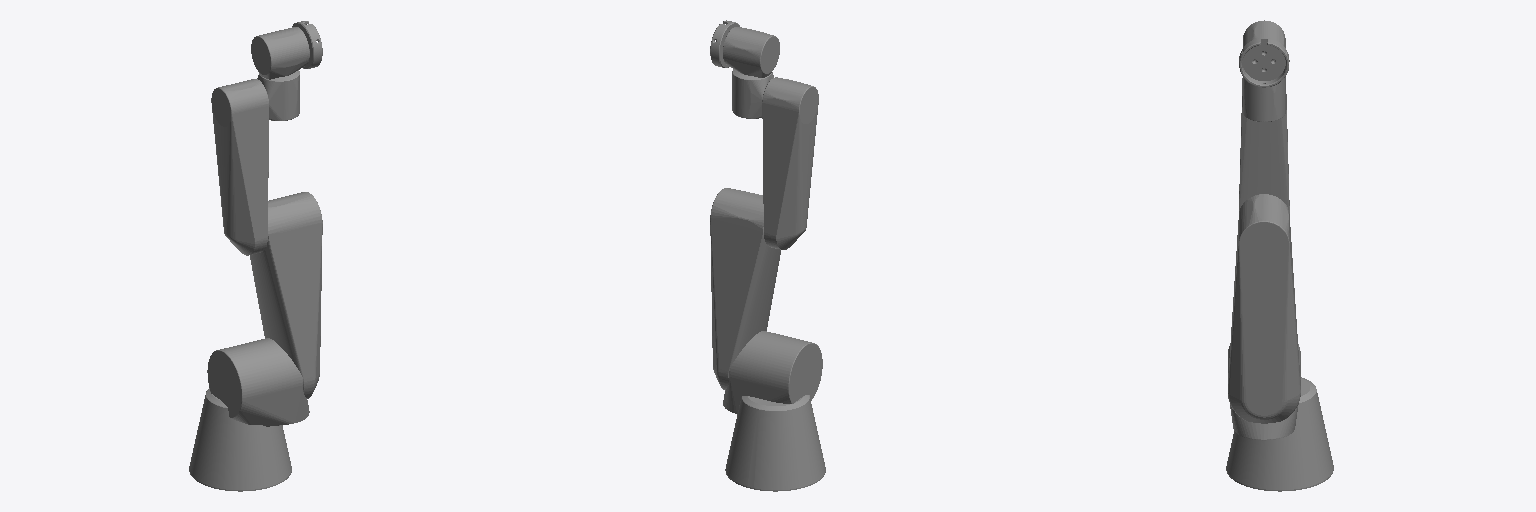
robot.urdf — wer24_robotarm:
<?xml version="1.0" ?>
<!-- =================================================================================== -->
<!-- |    This document was autogenerated by xacro from diy_robotarm_main.urdf.xacro   | -->
<!-- |    EDITING THIS FILE BY HAND IS NOT RECOMMENDED                                 | -->
<!-- =================================================================================== -->
<!--this is the main urdf.xacro file which builds actually the robot model by calling the other macros-->
<robot name="wer24_robotarm">
  <material name="black">
    <color rgba="0.0 0.0 0.0 1.0"/>
  </material>
  <material name="blue">
    <color rgba="0.0 0.0 0.8 1.0"/>
  </material>
  <material name="green">
    <color rgba="0.0 0.8 0.0 1.0"/>
  </material>
  <material name="yellow">
    <color rgba="1.0 1.0 0.0 1.0"/>
  </material>
  <material name="grey">
    <color rgba="0.6 0.6 0.6 1.0"/>
  </material>
  <material name="orange">
    <color rgba="1.0 0.4235294117647059 0.0392156862745098 1.0"/>
  </material>
  <material name="brown">
    <color rgba="0.8705882352941177 0.8117647058823529 0.7647058823529411 1.0"/>
  </material>
  <material name="red">
    <color rgba="0.8 0.0 0.0 1.0"/>
  </material>
  <material name="white">
    <color rgba="1.0 1.0 1.0 1.0"/>
  </material>
  <!--#######################################################################################################################################-->
  <!--set some parameters with default values used by the macros (kinematics description, simulation and control)-->
  <!--#######################################################################################################################################-->
  <!--still to modify delete not necessary params *** only use fake hardware should be available???-->
  <!--#######################################################################################################################################-->
  <!-- call the main macro by passing above instanced parameters to build the arm -->
  <!--#######################################################################################################################################-->
  <!-- create link fixed to the "world" -->
  <link name="world"/>
  <!--#######################################################################################################################################-->
  <!--include ros2 control and create an instance if param generate_ros2_control_tag == true and pass necessary params-->
  <!--#######################################################################################################################################-->
  <!--still to modify delete not necessary params-->
  <!--#######################################################################################################################################-->
  <!--build ros2_control configuration-->
  <!--#######################################################################################################################################-->
  <ros2_control name="wer24_robotarm" type="system">
    <!--load hardware or simulation plugins-->
    <hardware>
      <plugin>ur_robot_driver/URPositionHardwareInterface</plugin>
      <!--call our custom plugin for interfacing with the esp-->
      <param name="robot_ip">0.0.0.0</param>
      <param name="script_filename"></param>
      <param name="output_recipe_filename"></param>
      <param name="input_recipe_filename"></param>
      <param name="headless_mode">False</param>
      <param name="reverse_port">50001</param>
      <param name="script_sender_port">50002</param>
      <param name="reverse_ip">0.0.0.0</param>
      <param name="script_command_port">50004</param>
      <param name="trajectory_port">50003</param>
      <param name="tf_prefix"></param>
      <param name="non_blocking_read">True</param>
      <param name="keep_alive_count">2</param>
    </hardware>
    <!--define interfaces for each joint-->
    <joint name="shoulder">
      <!--define command interface PcToRobot-->
      <command_interface name="position">
        <param name="min">{-pi}</param>
        <param name="max">{pi}</param>
      </command_interface>
      <!--define state interface RobotToPC (NOTE: our Hardware is an open-loop control system!)-->
      <state_interface name="position">
        <!-- initial position for the FakeSystem and simulation -->
        <param name="initial_value">0</param>
      </state_interface>
    </joint>
    <joint name="upper_arm">
      <command_interface name="position">
        <param name="min">{-*pi}</param>
        <param name="max">{pi}</param>
      </command_interface>
      <state_interface name="position">
        <!-- initial position for the FakeSystem and simulation -->
        <param name="initial_value">0</param>
      </state_interface>
    </joint>
    <joint name="forearm">
      <command_interface name="position">
        <param name="min">{-pi}</param>
        <param name="max">{pi}</param>
      </command_interface>
      <state_interface name="position">
        <!-- initial position for the FakeSystem and simulation -->
        <param name="initial_value">0</param>
      </state_interface>
    </joint>
    <joint name="wrist_1">
      <command_interface name="position">
        <param name="min">{-pi}</param>
        <param name="max">{pi}</param>
      </command_interface>
      <state_interface name="position">
        <!-- initial position for the FakeSystem and simulation -->
        <param name="initial_value">0</param>
      </state_interface>
    </joint>
    <joint name="wrist_2">
      <command_interface name="position">
        <param name="min">{-pi}</param>
        <param name="max">{pi}</param>
      </command_interface>
      <state_interface name="position">
        <!-- initial position for the FakeSystem and simulation -->
        <param name="initial_value">0</param>
      </state_interface>
    </joint>
    <joint name="wrist_3">
      <command_interface name="position">
        <param name="min">{-pi}</param>
        <param name="max">{pi}</param>
      </command_interface>
      <state_interface name="position">
        <!-- initial position for the FakeSystem and simulation -->
        <param name="initial_value">0</param>
      </state_interface>
    </joint>
    <sensor name="tcp_fts_sensor">
      <state_interface name="force.x"/>
      <state_interface name="force.y"/>
      <state_interface name="force.z"/>
      <state_interface name="torque.x"/>
      <state_interface name="torque.y"/>
      <state_interface name="torque.z"/>
    </sensor>
    <!-- NOTE The following are joints used only for testing with fake hardware and will change in the future -->
    <gpio name="speed_scaling">
      <state_interface name="speed_scaling_factor"/>
      <param name="initial_speed_scaling_factor">1</param>
      <command_interface name="target_speed_fraction_cmd"/>
      <command_interface name="target_speed_fraction_async_success"/>
    </gpio>
    <gpio name="payload">
      <command_interface name="mass"/>
      <command_interface name="cog.x"/>
      <command_interface name="cog.y"/>
      <command_interface name="cog.z"/>
      <command_interface name="payload_async_success"/>
    </gpio>
    <gpio name="resend_robot_program">
      <command_interface name="resend_robot_program_cmd"/>
      <command_interface name="resend_robot_program_async_success"/>
    </gpio>
    <gpio name="hand_back_control">
      <command_interface name="hand_back_control_cmd"/>
      <command_interface name="hand_back_control_async_success"/>
    </gpio>
    <gpio name="zero_ftsensor">
      <command_interface name="zero_ftsensor_cmd"/>
      <command_interface name="zero_ftsensor_async_success"/>
    </gpio>
    <gpio name="system_interface">
      <state_interface name="initialized"/>
    </gpio>
  </ros2_control>
  <!--#######################################################################################################################################-->
  <!--define the main kinematic chain with links and joints (using the config-files)-->
  <!--#######################################################################################################################################-->
  <!-- Achse fix Base to parent passed in the main_urdf.xacro-->
  <joint name="robotarm_to_parent" type="fixed">
    <parent link="world"/>
    <child link="base_link"/>
  </joint>
  <!-- Link0 = Basecone -->
  <link name="base_link">
    <origin xyz="0 0 0"/>
    <visual>
      <geometry>
        <mesh filename="package://diy_robotarm_wer24_description/meshes/visual/base.stl" scale="0.001 0.001 0.001"/>
      </geometry>
      <material name="grey"/>
    </visual>
    <!-- <collision>
        <origin xyz="0 0 0 rpy = 0 0 0"/>
        <geometry>
          <mesh filename="package://diy_robotarm_wer24_description/meshes/collision/base.stl" scale="0.001 0.001 0.001"/>
        </geometry>
        <material name="red"/>
      </collision> -->
  </link>
  <!-- Achse 1 (Base = World)-->
  <joint name="shoulder" type="revolute">
    <origin rpy="0 0 0" xyz="0 0 0.10693"/>
    <parent link="base_link"/>
    <child link="link_1"/>
    <axis xyz="0.0 0.0 1.0"/>
    <limit lower="-3.141592653589793" upper="3.141592653589793" velocity="1.0471975511965976"/>
  </joint>
  <!-- Link1 = Shoulder -->
  <link name="link_1">
    <visual>
      <origin rpy="0 0 0" xyz="0 0 0"/>
      <!--this transformations are defined local on this reference set-->
      <geometry>
        <mesh filename="package://diy_robotarm_wer24_description/meshes/visual/link_1.stl" scale="0.001 0.001 0.001"/>
      </geometry>
      <material name="grey"/>
    </visual>
    <!-- <collision>
        <origin xyz="0 0 0 rpy = 0 0 0"/>
        <geometry>
          <mesh filename="package://diy_robotarm_wer24_description/meshes/collision/link_1.stl" scale="0.001 0.001 0.001"/>
        </geometry>
        <material name="red"/>
      </collision> -->
  </link>
  <!-- Achse 2 -->
  <joint name="upper_arm" type="revolute">
    <origin rpy="1.57079 0 1.57079" xyz="0.01163 0 0.05732"/>
    <parent link="link_1"/>
    <child link="link_2"/>
    <axis xyz="0.0 0.0 1.0"/>
    <limit lower="-3.141592653589793" upper="3.141592653589793" velocity="1.0471975511965976"/>
  </joint>
  <!-- Link2 = Upper_Arm -->
  <link name="link_2">
    <visual>
      <origin rpy="0 0 0" xyz="0 0 0"/>
      <geometry>
        <mesh filename="package://diy_robotarm_wer24_description/meshes/visual/link_2.stl" scale="0.001 0.001 0.001"/>
      </geometry>
      <material name="grey"/>
    </visual>
    <!-- <collision>
        <origin xyz="0 0 0 rpy = 0 0 0"/>
        <geometry>
          <mesh filename="package://diy_robotarm_wer24_description/meshes/collision/link_2.stl" scale="0.001 0.001 0.001"/>
        </geometry>
        <material name="red"/>
      </collision> -->
  </link>
  <!-- Achse 3 -->
  <joint name="forearm" type="revolute">
    <origin rpy="0 0 1.57079" xyz="0 0.2032 -0.04911"/>
    <parent link="link_2"/>
    <child link="link_3"/>
    <axis xyz="0.0 0.0 1.0"/>
    <limit lower="-3.141592653589793" upper="3.141592653589793" velocity="1.0471975511965976"/>
  </joint>
  <!-- Link3 = Forearm -->
  <link name="link_3">
    <visual>
      <origin rpy="0 0 0" xyz="0 0 0"/>
      <geometry>
        <mesh filename="package://diy_robotarm_wer24_description/meshes/visual/link_3.stl" scale="0.001 0.001 0.001"/>
      </geometry>
      <material name="grey"/>
    </visual>
    <!-- <collision>
        <origin xyz="0 0 0 rpy = 0 0 0"/>
        <geometry>
          <mesh filename="package://diy_robotarm_wer24_description/meshes/collision/link_3.stl" scale="0.001 0.001 0.001"/>
        </geometry>
        <material name="red"/>
      </collision> -->
  </link>
  <!-- Achse 4 -->
  <joint name="wrist_1" type="revolute">
    <origin rpy="0 0 0" xyz="0.1778 0 0.0103"/>
    <parent link="link_3"/>
    <child link="link_4"/>
    <axis xyz="0.0 0.0 1.0"/>
    <limit lower="-3.141592653589793" upper="3.141592653589793" velocity="1.0471975511965976"/>
  </joint>
  <!-- Link4 = Wrist 1 -->
  <link name="link_4">
    <visual>
      <origin rpy="0 0 0" xyz="0 0 0"/>
      <geometry>
        <mesh filename="package://diy_robotarm_wer24_description/meshes/visual/link_4.stl" scale="0.001 0.001 0.001"/>
      </geometry>
      <material name="grey"/>
    </visual>
    <!-- <collision>
        <origin xyz="0 0 0 rpy = 0 0 0"/>
        <geometry>
          <mesh filename="package://diy_robotarm_wer24_description/meshes/collision/link_4.stl" scale="0.001 0.001 0.001"/>
        </geometry>
        <material name="red"/>
      </collision> -->
  </link>
  <!-- Achse 5 -->
  <joint name="wrist_2" type="revolute">
    <origin rpy="-1.57079 0 -1.57079" xyz="0.03095 0 0.02667"/>
    <parent link="link_4"/>
    <child link="link_5"/>
    <axis xyz="0.0 0.0 1.0"/>
    <limit lower="-3.141592653589793" upper="3.141592653589793" velocity="1.0471975511965976"/>
  </joint>
  <!-- Link5 = Wrist 2 -->
  <link name="link_5">
    <visual>
      <origin rpy="0 0 0" xyz="0 0 0"/>
      <geometry>
        <mesh filename="package://diy_robotarm_wer24_description/meshes/visual/link_5.stl" scale="0.001 0.001 0.001"/>
      </geometry>
      <material name="grey"/>
    </visual>
    <!-- <collision>
        <origin xyz="0 0 0 rpy = 0 0 0"/>
        <geometry>
          <mesh filename="package://diy_robotarm_wer24_description/meshes/collision/link_5.stl" scale="0.001 0.001 0.001"/>
        </geometry>
        <material name="red"/>
      </collision> -->
  </link>
  <!-- Achse 6 -->
  <joint name="wrist_3" type="revolute">
    <origin rpy="1.57079 0 0" xyz="0 -0.03146 0.02683"/>
    <parent link="link_5"/>
    <child link="link_6"/>
    <axis xyz="0.0 0.0 1.0"/>
    <limit lower="-3.141592653589793" upper="3.141592653589793" velocity="1.0471975511965976"/>
  </joint>
  <!-- Link6 = Flange -->
  <link name="link_6">
    <visual>
      <origin rpy="0 0 0" xyz="0 0 0"/>
      <geometry>
        <mesh filename="package://diy_robotarm_wer24_description/meshes/visual/link_6.stl" scale="0.001 0.001 0.001"/>
      </geometry>
      <material name="grey"/>
    </visual>
    <!-- <collision>
        <origin xyz="0 0 0 rpy = 0 0 0"/>
        <geometry>
          <mesh filename="package://diy_robotarm_wer24_description/meshes/collision/link_6.stl" scale="0.001 0.001 0.001"/>
        </geometry>
        <material name="red"/>
      </collision> -->
  </link>
</robot>

--- What the picture shows (computed from the rendered views, not written in the file) ---
3 views of the same robot in one strip: view 1: azimuth 30°, elevation 25°; view 2: azimuth 150°, elevation 25°; view 3: azimuth 270°, elevation 25° (orthographic).
Model wer24_robotarm with 8 links and 7 joints (6 revolute, 1 fixed), rooted at world, posed all joints at 0.
Visible links, largest first — view 1: link_2, link_3, link_1, base_link, link_5, link_4, link_6; view 2: link_2, link_3, base_link, link_1, link_5, link_4, link_6; view 3: link_2, base_link, link_3, link_6, link_4, link_1, link_5.
Boxes of the visible links, x1=… form: link_2: x1=250, y1=192, x2=322, y2=398; link_3: x1=211, y1=79, x2=268, y2=255; link_1: x1=207, y1=338, x2=309, y2=426; base_link: x1=189, y1=388, x2=291, y2=491; link_5: x1=251, y1=27, x2=309, y2=79; link_4: x1=257, y1=70, x2=299, y2=120; link_6: x1=292, y1=21, x2=322, y2=68; link_2: x1=710, y1=188, x2=780, y2=390; link_3: x1=762, y1=77, x2=818, y2=249; base_link: x1=725, y1=395, x2=825, y2=491; link_1: x1=723, y1=331, x2=822, y2=413; link_5: x1=723, y1=27, x2=779, y2=77; link_4: x1=732, y1=69, x2=773, y2=118; link_6: x1=710, y1=20, x2=739, y2=67; link_2: x1=1228, y1=194, x2=1300, y2=423; base_link: x1=1226, y1=377, x2=1333, y2=491; link_3: x1=1239, y1=78, x2=1289, y2=212; link_6: x1=1239, y1=38, x2=1289, y2=87; link_4: x1=1243, y1=77, x2=1285, y2=121; link_1: x1=1228, y1=344, x2=1300, y2=440; link_5: x1=1243, y1=20, x2=1285, y2=69.
Bounding box of the posed robot: 0.1546 × 0.1277 × 0.6017 m (x, y, z).
7 mesh visuals loaded from 7 distinct referenced files (7 binary STL).
